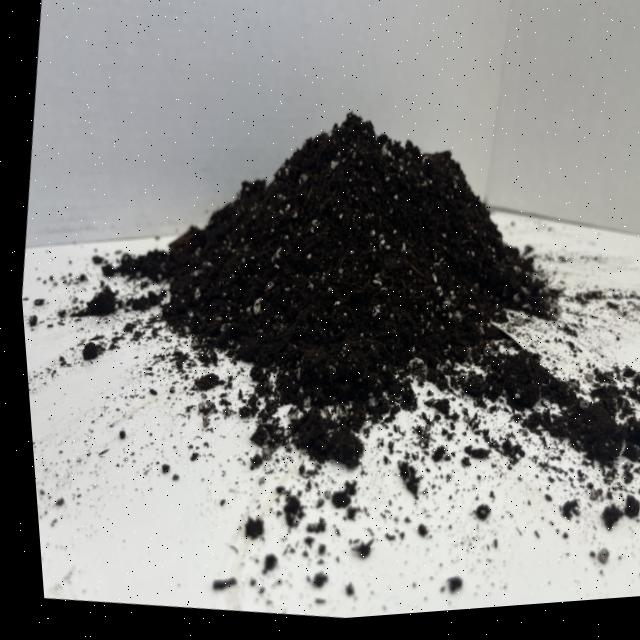soil: (32, 39, 640, 589)
